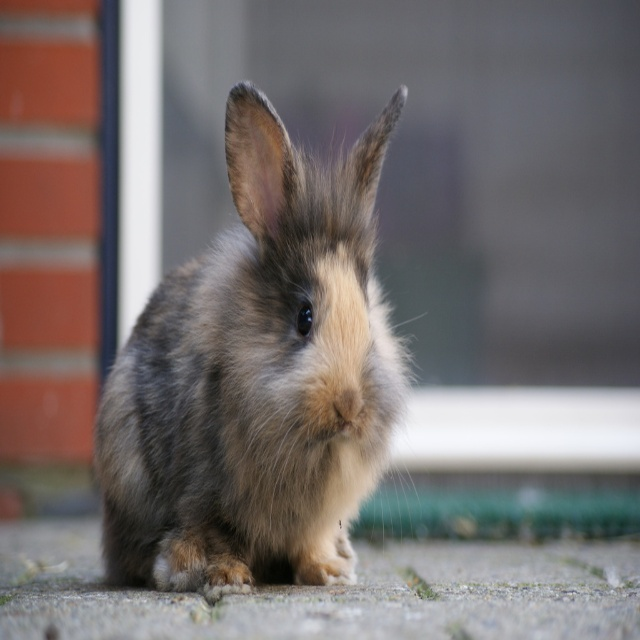Rabbit: (89, 81, 433, 608)
